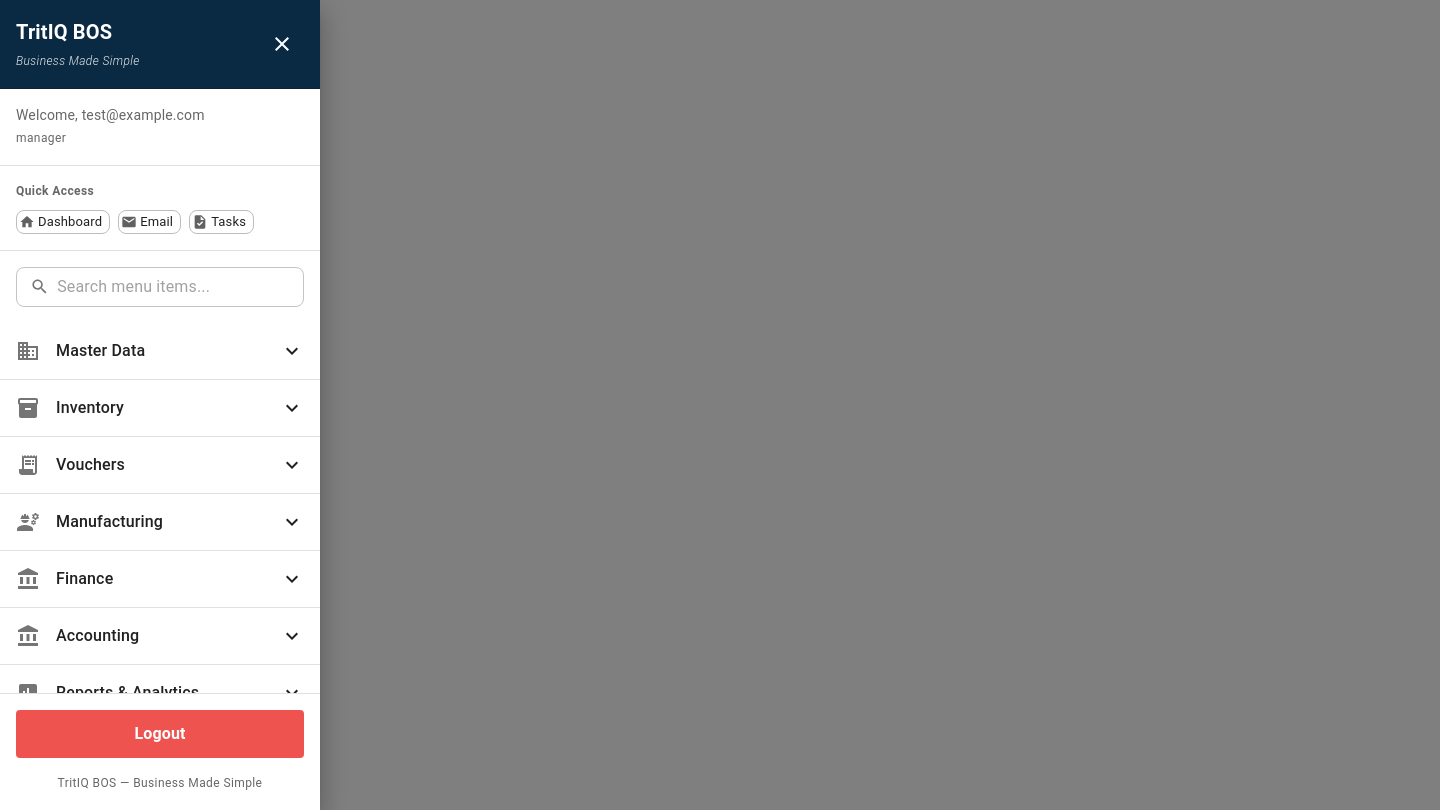
Scenario: MobileNav - Mobile Navigation Accessibility › should expand and show subsections when section is clicked
Click the button "Master Data". click: (101,350)
box: [16, 339, 304, 363]
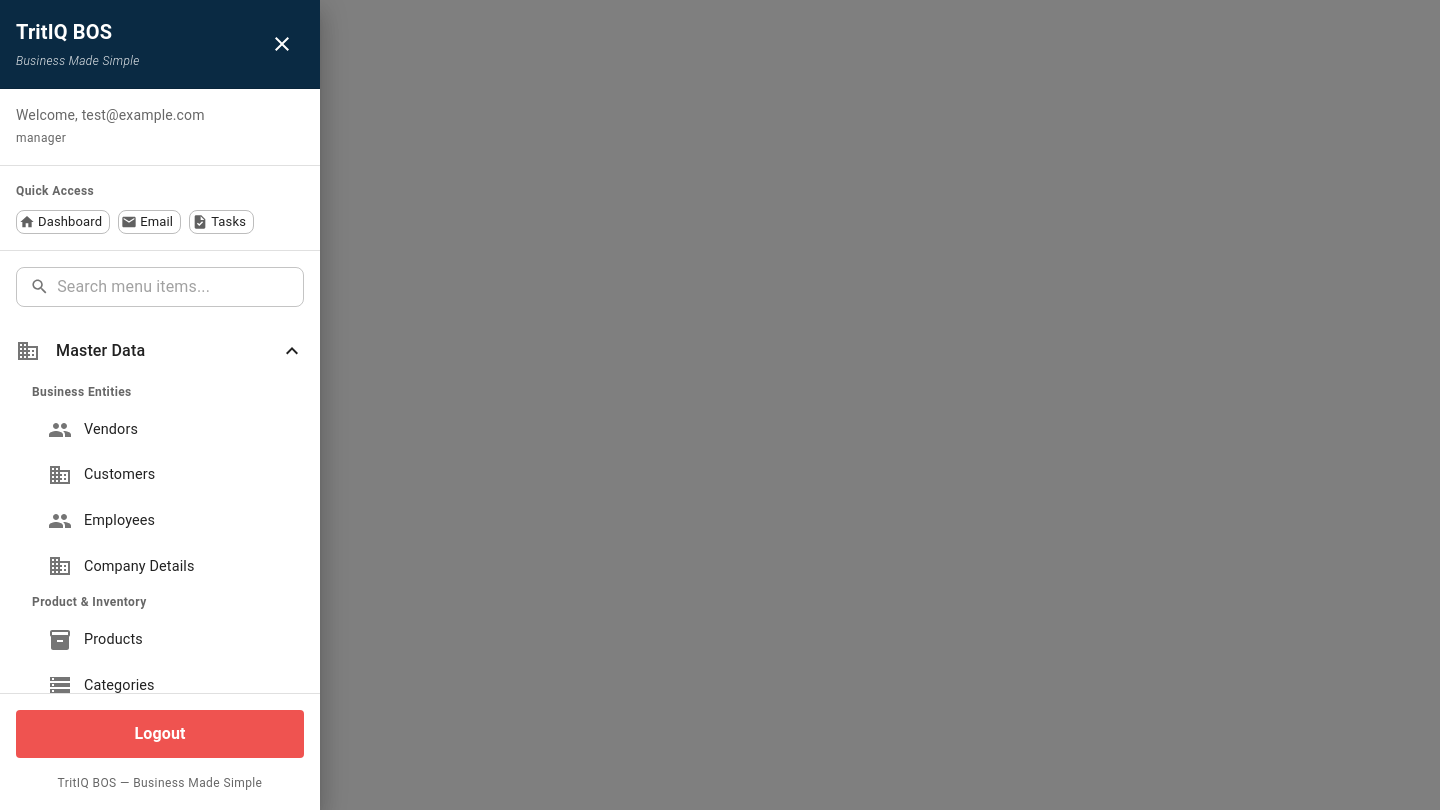
Check: the text "Business Entities" is shown, box [32, 383, 132, 403]
